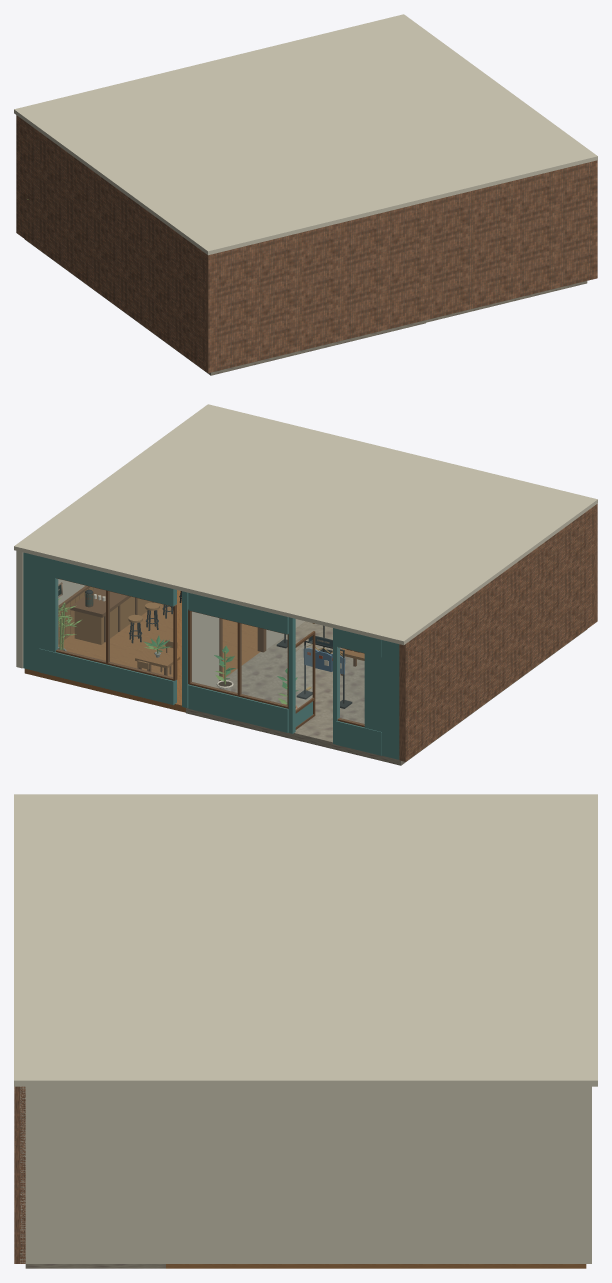
The model's file is 04_Offbeat_Shop_Interior.glb.
The picture shows the model from 3 angles, top to bottom: view 1: azimuth 30°, elevation 25°; view 2: azimuth 150°, elevation 25°; view 3: azimuth 270°, elevation 25°; orthographic projection. The views are drawn at different scales.
Visible parts, largest first — view 1: ROOF_Removable, WALL_Back, WALL_Left, FLOOR_Retail, FLOOR_Office; view 2: ROOF_Removable, WALL_Left, WINDOW_RemovableGlass, FRONT_Piers, FLOOR_Retail, FRONT_WindowSills, FLOOR_Cafe, FRONT_WindowHeader, WINDOW_Frames, WALL_RoomDivider, WINDOW_LeftGlass, CAFE_CounterBody (+9 smaller); view 3: ROOF_Removable, WALL_Right, WALL_Back, FLOOR_Cafe, FLOOR_Office.
Part boxes in pixels (x1=…): ROOF_Removable: x1=14, y1=14, x2=597, y2=255; WALL_Back: x1=204, y1=160, x2=597, y2=373; WALL_Left: x1=16, y1=115, x2=206, y2=371; FLOOR_Retail: x1=24, y1=239, x2=425, y2=375; FLOOR_Office: x1=426, y1=281, x2=587, y2=322; ROOF_Removable: x1=14, y1=404, x2=597, y2=645; WALL_Left: x1=399, y1=506, x2=595, y2=761; WINDOW_RemovableGlass: x1=57, y1=579, x2=286, y2=705; FRONT_Piers: x1=23, y1=552, x2=399, y2=759; FLOOR_Retail: x1=186, y1=621, x2=587, y2=765; FRONT_WindowSills: x1=39, y1=648, x2=288, y2=732; FLOOR_Cafe: x1=24, y1=590, x2=260, y2=712; FRONT_WindowHeader: x1=39, y1=556, x2=288, y2=634; WINDOW_Frames: x1=56, y1=578, x2=364, y2=727; WALL_RoomDivider: x1=192, y1=611, x2=304, y2=687; WINDOW_LeftGlass: x1=338, y1=648, x2=363, y2=724; CAFE_CounterBody: x1=74, y1=596, x2=157, y2=644; ROOF_Removable: x1=14, y1=794, x2=597, y2=1086; WALL_Right: x1=20, y1=1086, x2=591, y2=1263; WALL_Back: x1=14, y1=1086, x2=25, y2=1263; FLOOR_Cafe: x1=166, y1=1264, x2=586, y2=1268; FLOOR_Office: x1=25, y1=1264, x2=165, y2=1268.
Bounding box in the file's own units: 14.55 × 4.58 × 12.5.
97 materials, 40 textured.
